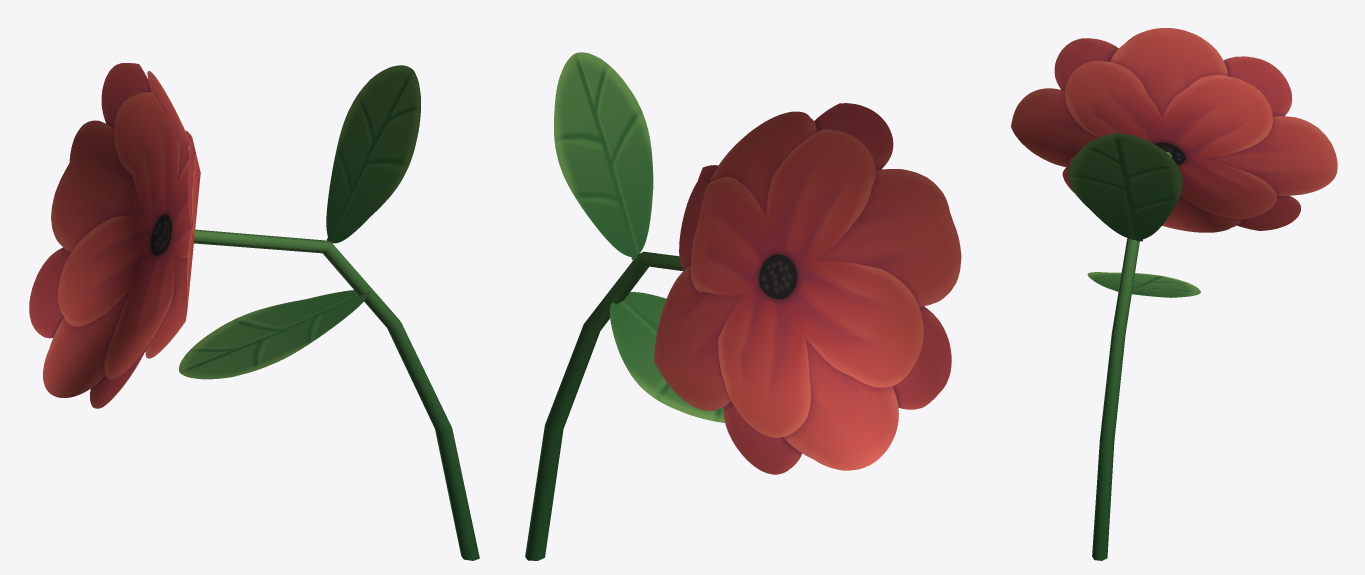
File: Flower-2.FBX
3 renders of one model, left to right at view 1: azimuth 30°, elevation 25°; view 2: azimuth 150°, elevation 25°; view 3: azimuth 270°, elevation 25°, orthographic. The views are drawn at different scales.
Visible parts, largest first — view 1: Flower #2; view 2: Flower #2; view 3: Flower #2.
Part boxes in pixels (box(x1,y1,x2,y2)): Flower #2: box(29, 63, 479, 560); Flower #2: box(525, 52, 961, 560); Flower #2: box(1011, 28, 1337, 560).
Bounding box in the file's own units: 18.68 × 22.99 × 17.23.
